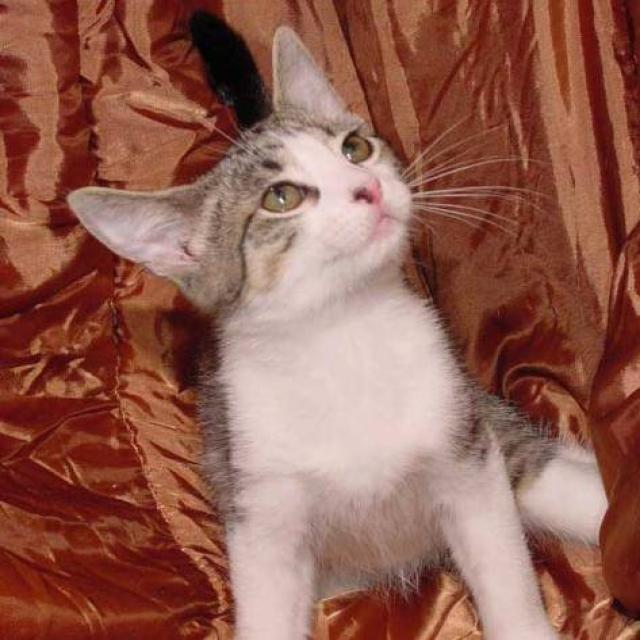cat: (64, 9, 610, 639)
